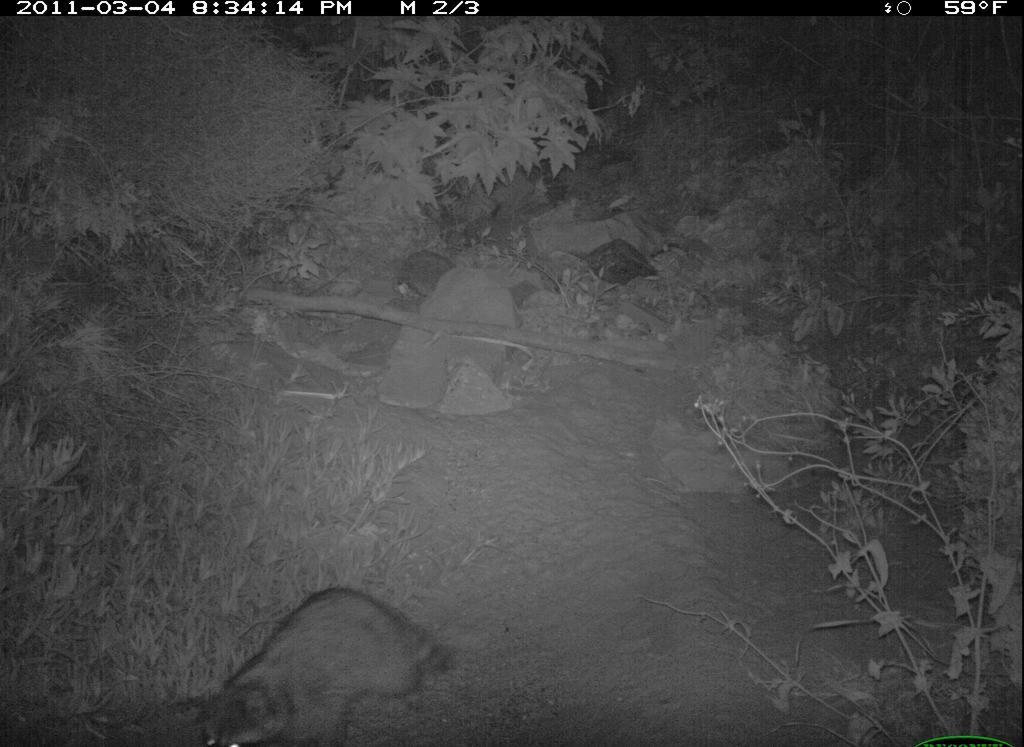raccoon: (191, 583, 465, 747)
